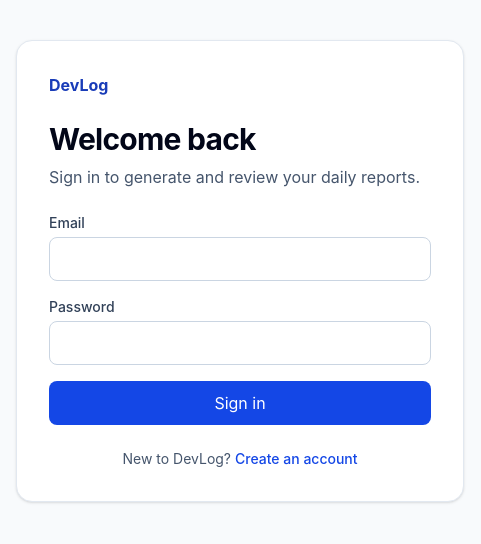
Test: login page › shows validation errors without submitting invalid values
Click the button "Sign in".
click(240, 403)  # box [49,381,431,425]
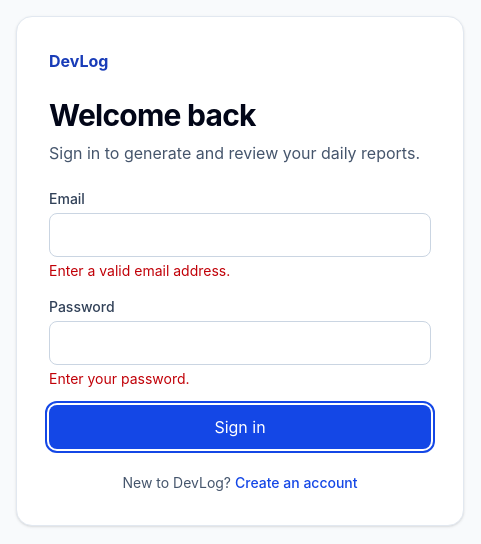
Result: the text "Enter a valid email address." is shown at [49,262,230,279]
Result: the text "Enter your password." is shown at [49,370,190,387]
